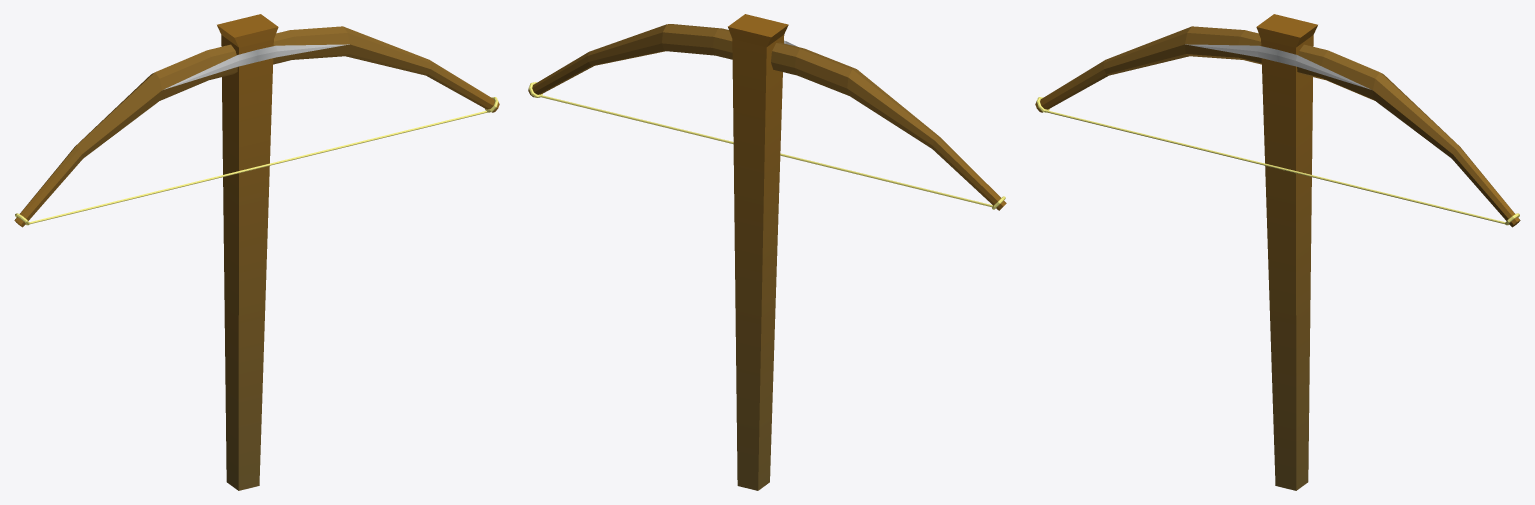
The model's file is crossbow_1.glb.
3 renders of one model, left to right at view 1: azimuth 30°, elevation 25°; view 2: azimuth 150°, elevation 25°; view 3: azimuth 330°, elevation 25°, orthographic.
Parts seen in each view (by area): view 1: crossbow_1; view 2: crossbow_1; view 3: crossbow_1.
Part boxes in pixels (x1,y1,x2,y2): crossbow_1: (14, 14, 499, 490); crossbow_1: (528, 14, 1006, 490); crossbow_1: (1035, 14, 1520, 490).
Size of the model in its own units: 0.6884 by 0.6274 by 0.0603.
1 material, 1 textured.
